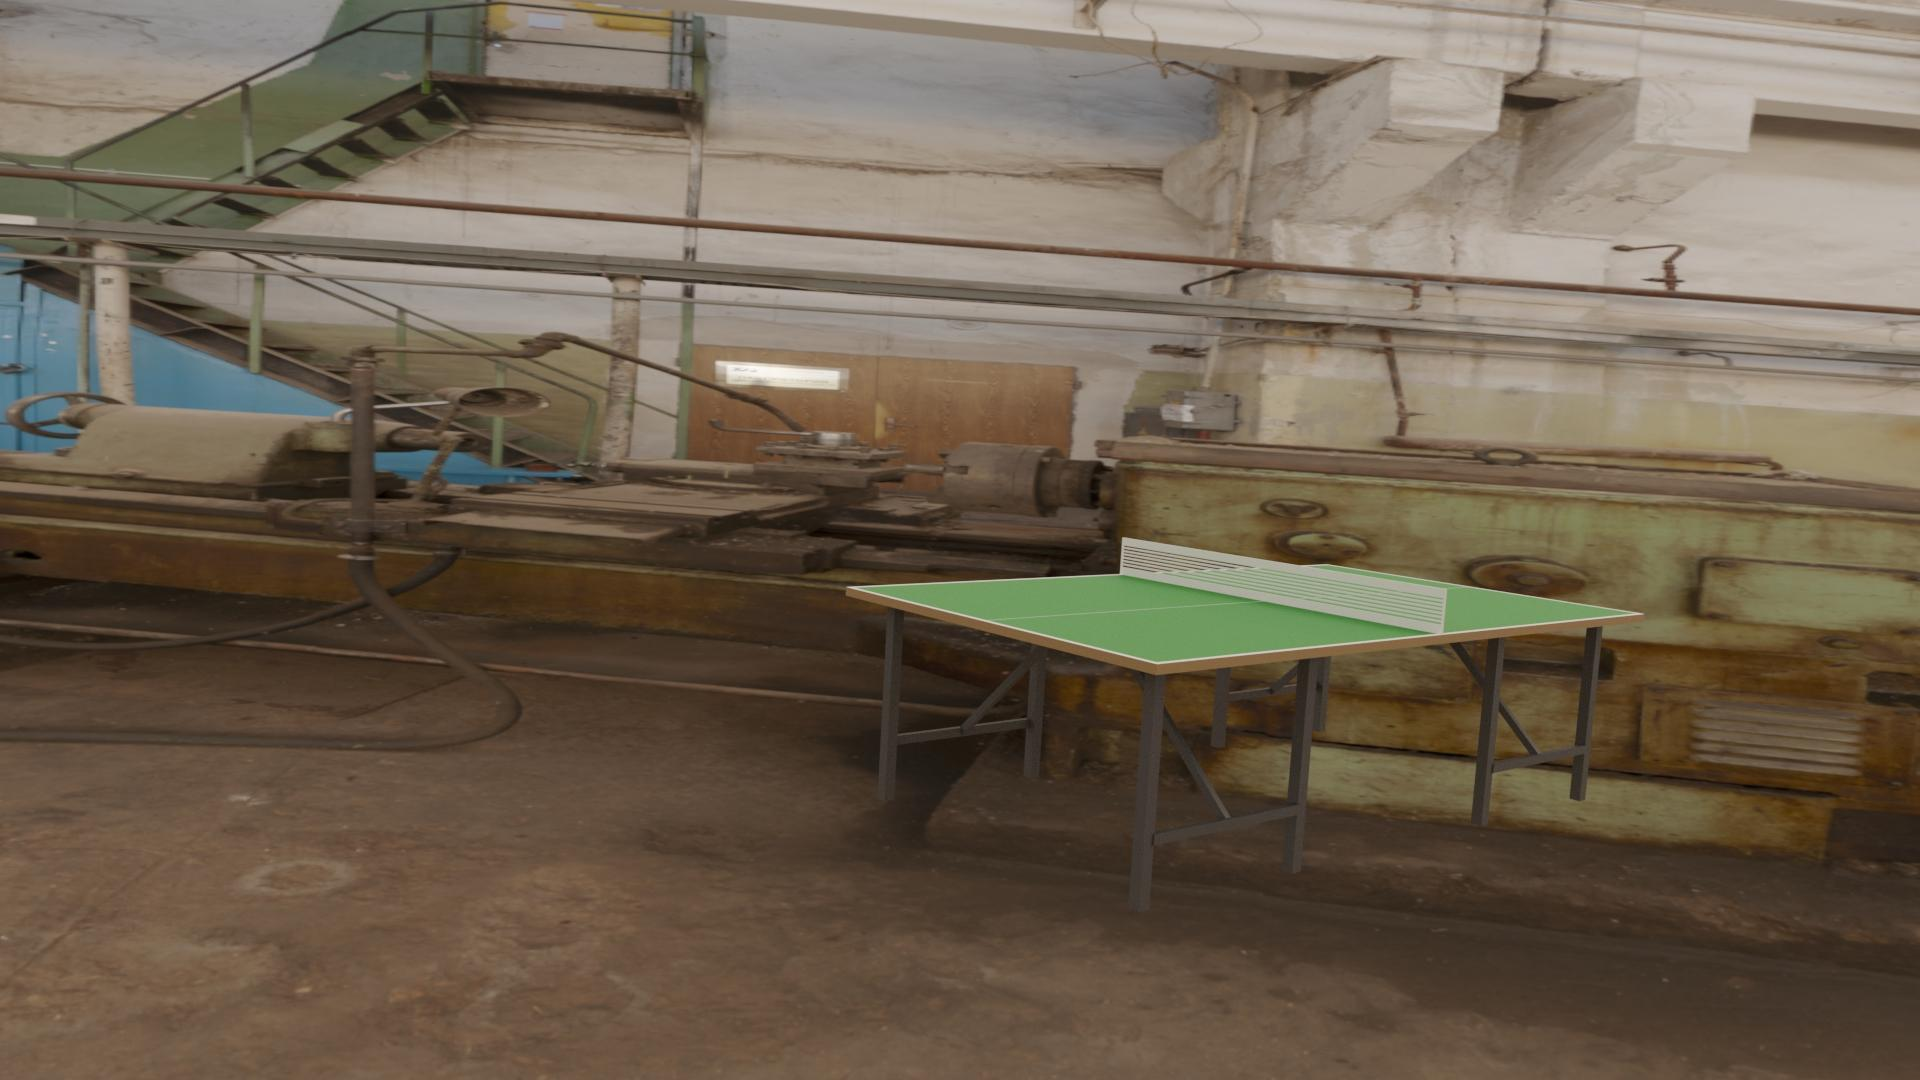table: (855, 566, 1636, 662)
